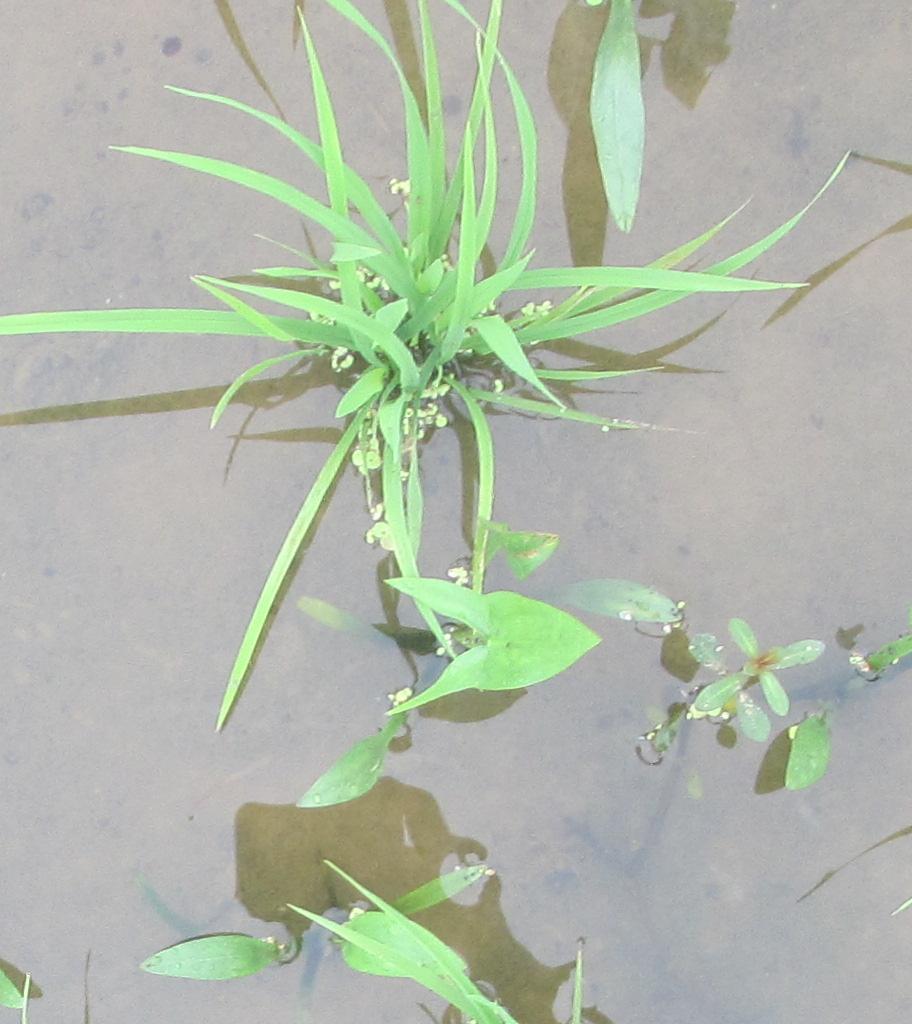Weed: (142, 891, 488, 1005), (678, 624, 908, 763), (380, 575, 616, 707)
